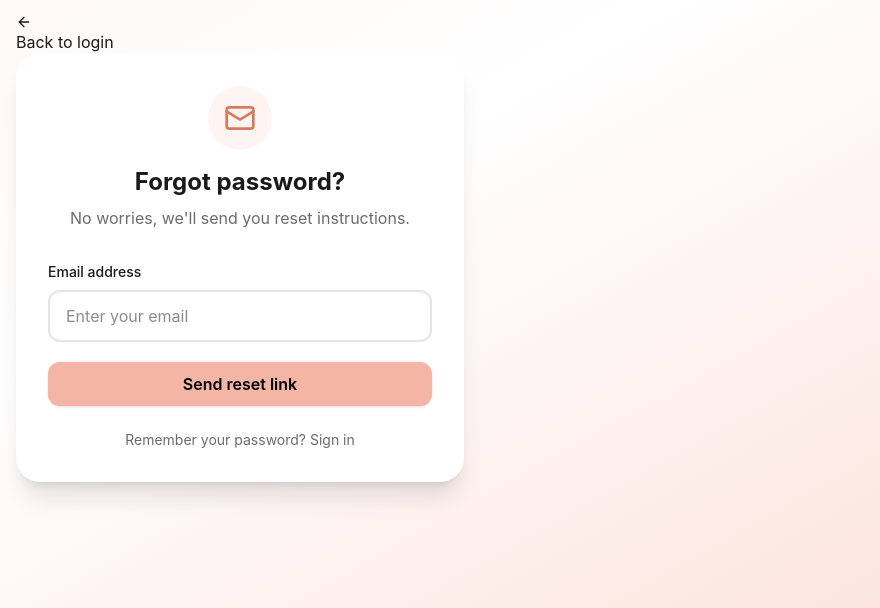
Test case: ForgotPasswordPage › handles successful password reset request
In the field with placeholder "Enter your email": (240, 316) left=48, top=290, right=432, bottom=342, type "test@example.com"
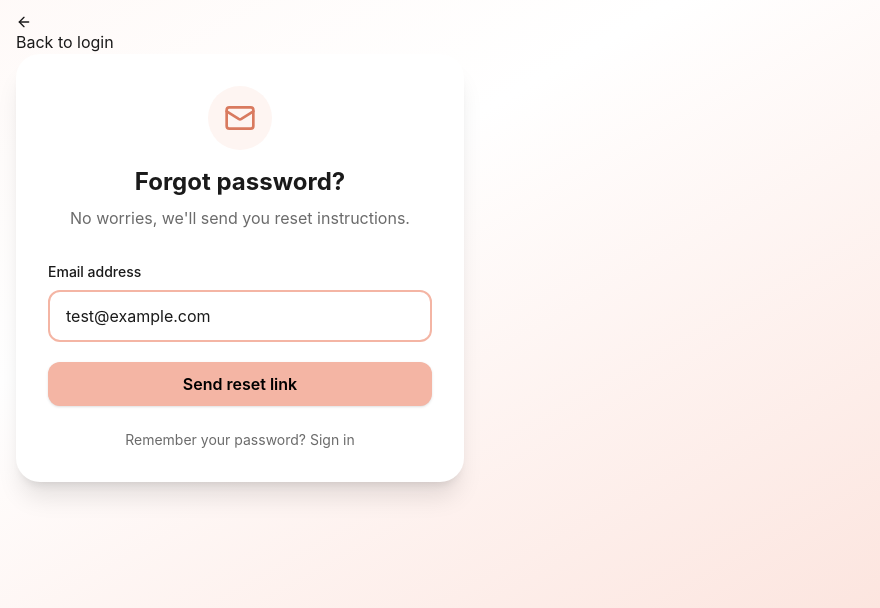
Click the button "Send reset link": (240, 384) left=48, top=362, right=432, bottom=406
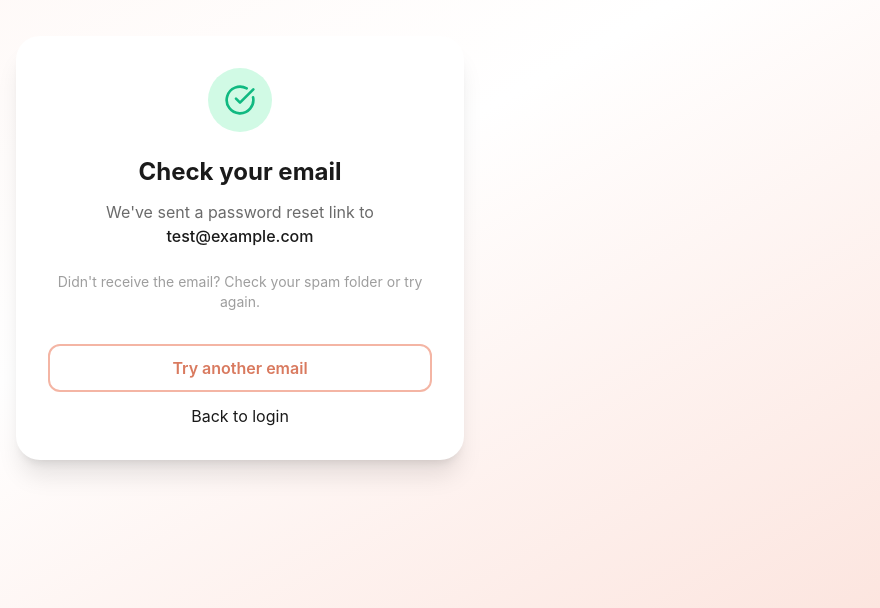
Now the heading "Check your email" is shown, box left=138, top=157, right=342, bottom=186
Now the text "test@example.com" is shown, box left=166, top=226, right=314, bottom=246
